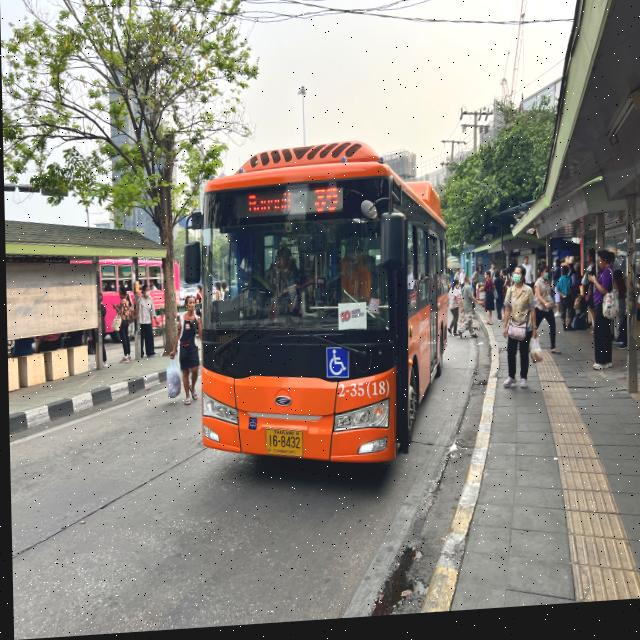Bus-Line-Number: (309, 190, 342, 221)
Destination-Sign-Normal: (234, 189, 308, 225)
TSB-Bus: (193, 143, 449, 481)
